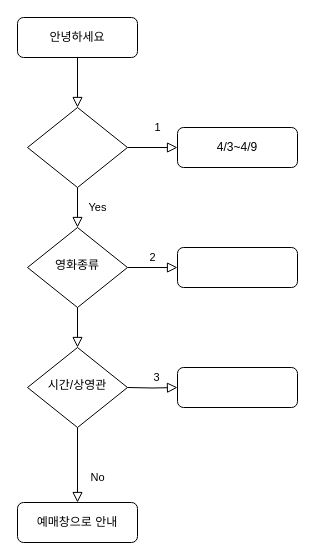
The diagram is 315 pixels wide and 560 high, and some of its shapes have lost their labels. The shapes that lost their labels are listed below. From the top down, each one's centre as x and y in pixels, then its label:
At (x=77, y=147): "날짜선택 (일주일)".
At (x=237, y=267): "영화 목록".
At (x=237, y=387): "시간/상영관 목록".
